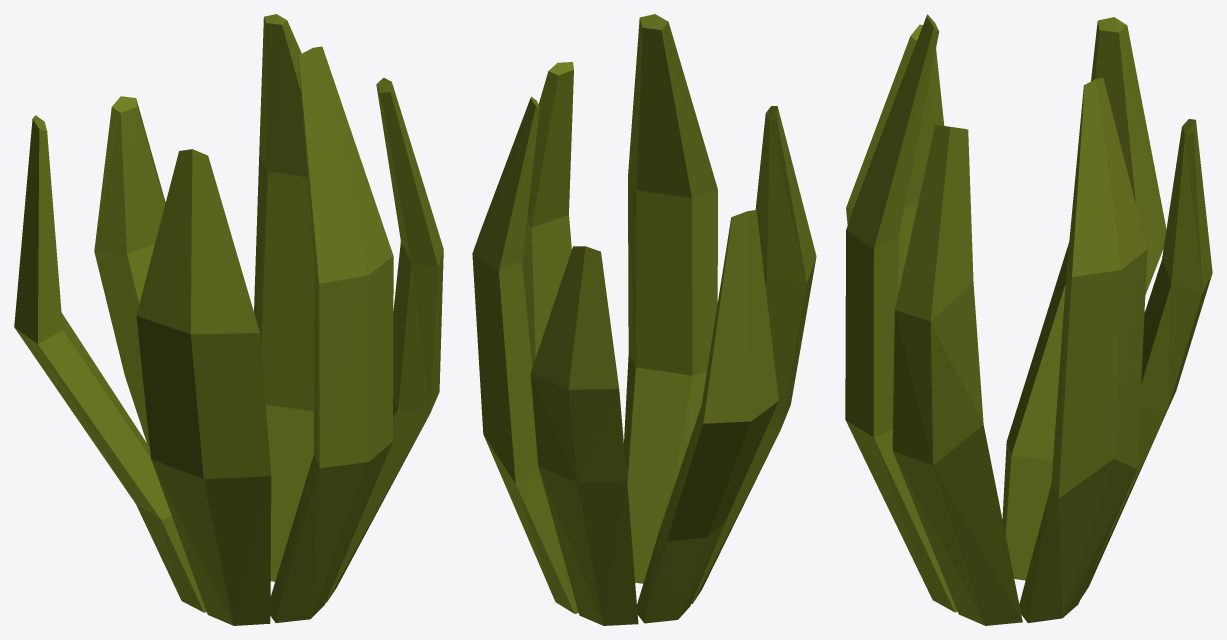
File: Plant_17.fbx
3 renders of one model, left to right at view 1: azimuth 30°, elevation 25°; view 2: azimuth 150°, elevation 25°; view 3: azimuth 270°, elevation 25°, orthographic. The views are drawn at different scales.
Parts seen in each view (by area): view 1: Plant_17; view 2: Plant_17; view 3: Plant_17.
Part boxes in pixels (<box>): Plant_17: <box>14,14,443,625</box>; Plant_17: <box>472,14,816,625</box>; Plant_17: <box>845,14,1212,625</box>.
Bounding box in the file's own units: 0.4398 × 0.7203 × 0.4111.
